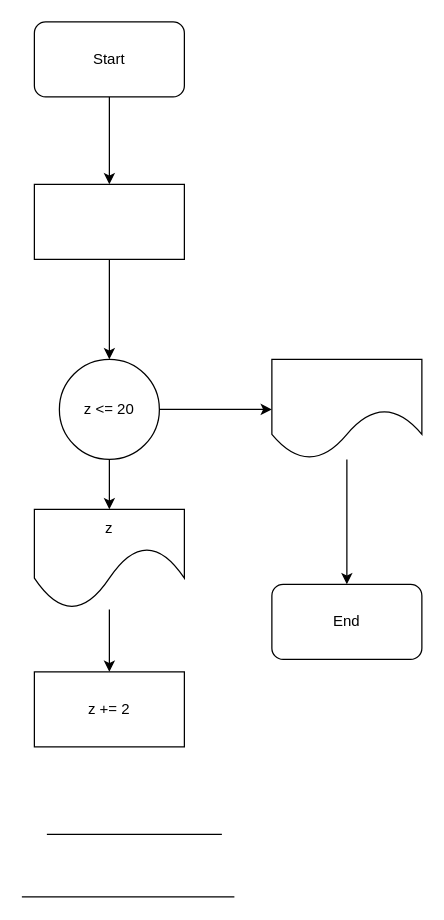
This 444x920 diagram has some shape labels left out. The shapes that lost their labels are listed below. From the top down, each one's centre as x and y in pixels, then its label:
(x=108, y=221): z: (int) = 10
(x=346, y=408): finish
